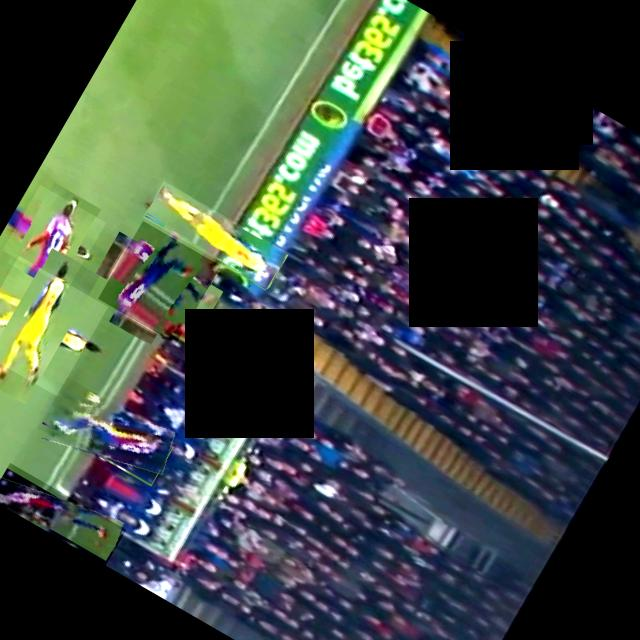soccer-player: (36, 377, 178, 492), (142, 180, 288, 290), (97, 220, 220, 344), (0, 255, 107, 396), (0, 462, 125, 565), (1, 184, 105, 288)
